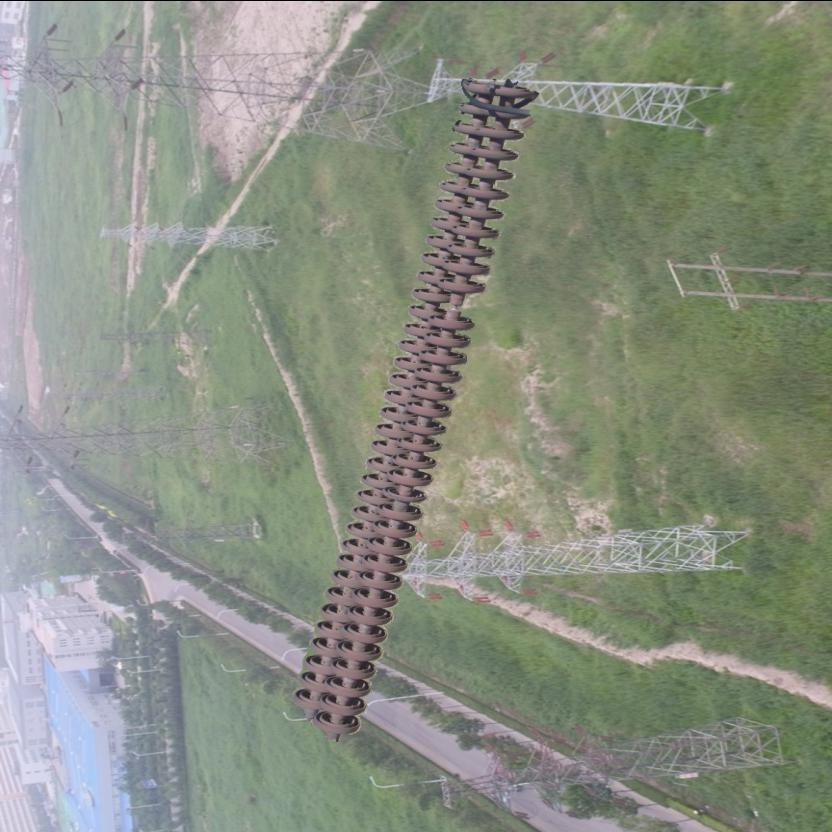defect: (426, 279, 481, 341)
